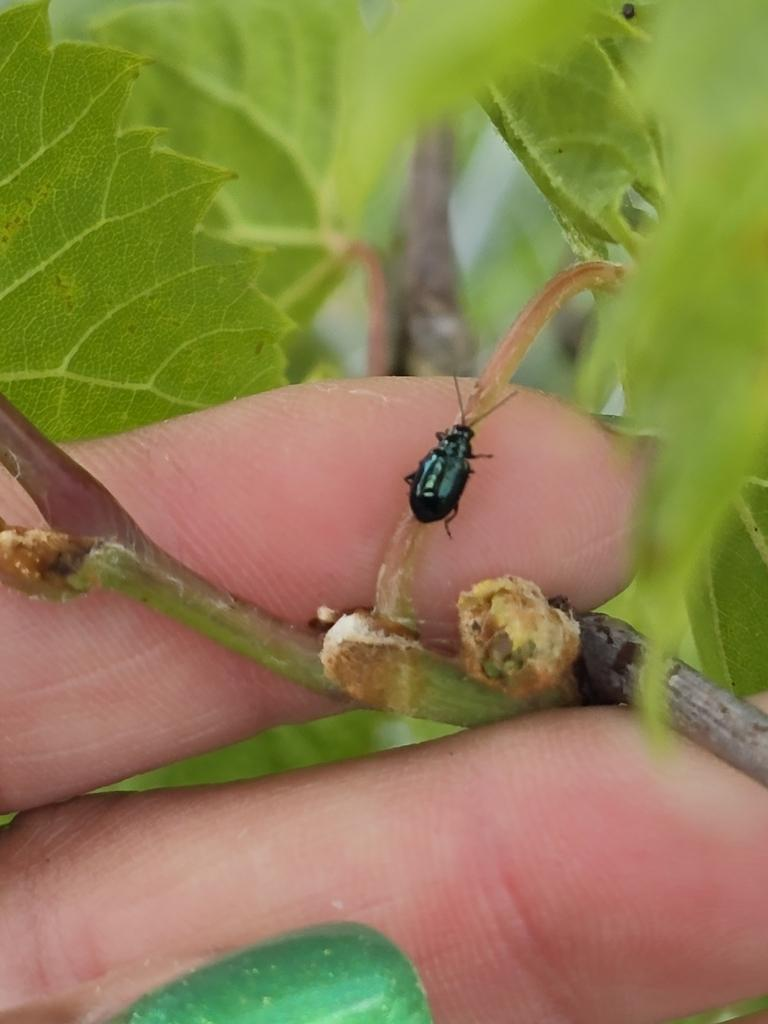flea_beetle: (380, 361, 524, 557)
